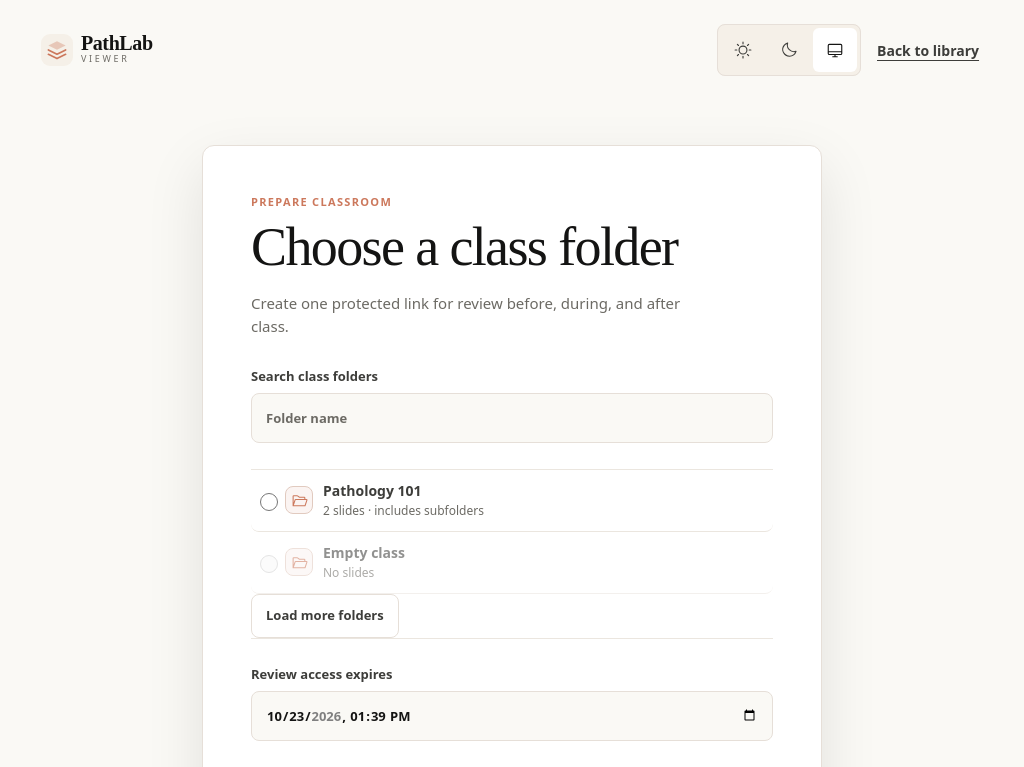
Test: Classroom folder setup › submits classroom creation only once while preparation is in flight
Click the radio button labelled "Pathology 101 2 slides · includes subfolders": point(269, 502) [260,492,278,510]
(page scrolled)
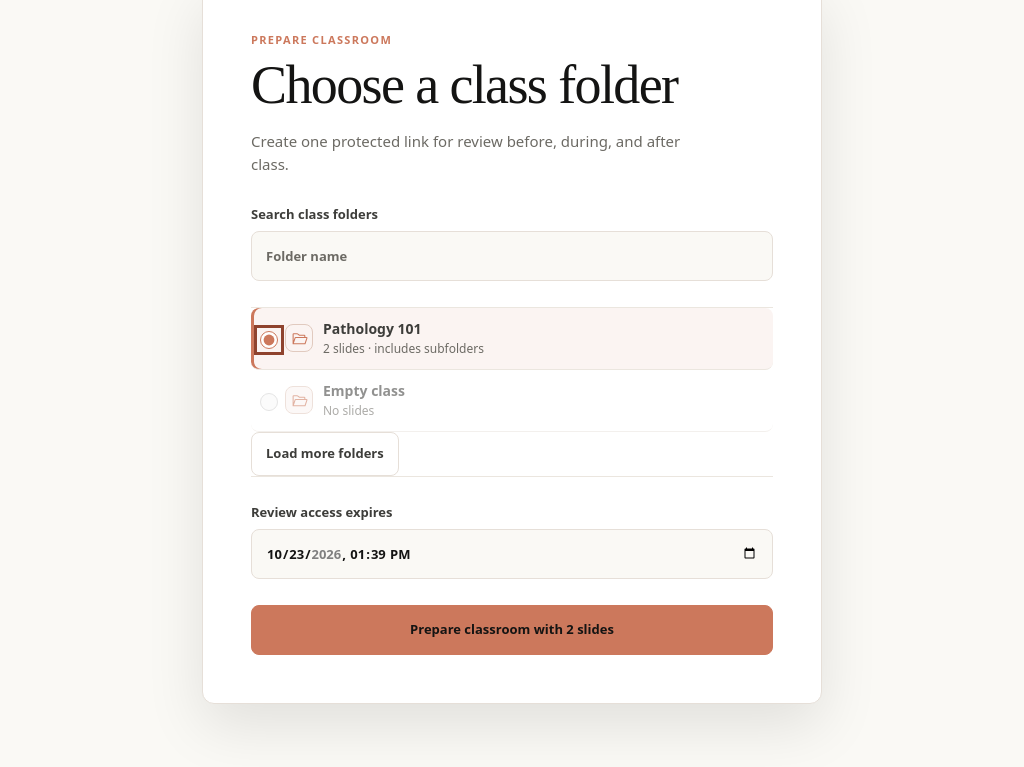
Double-click the button "Prepare classroom with 2 slides": point(512, 630) [251,604,773,654]
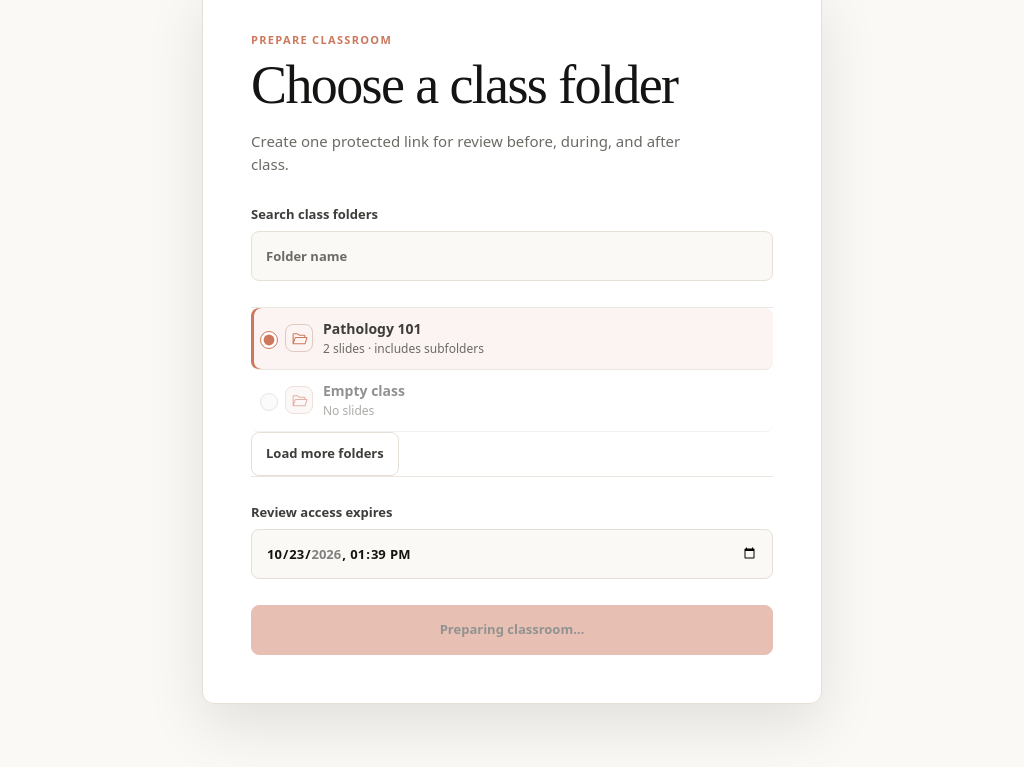
Expected: the button "Preparing classroom…" is disabled, [251,604,773,654]
